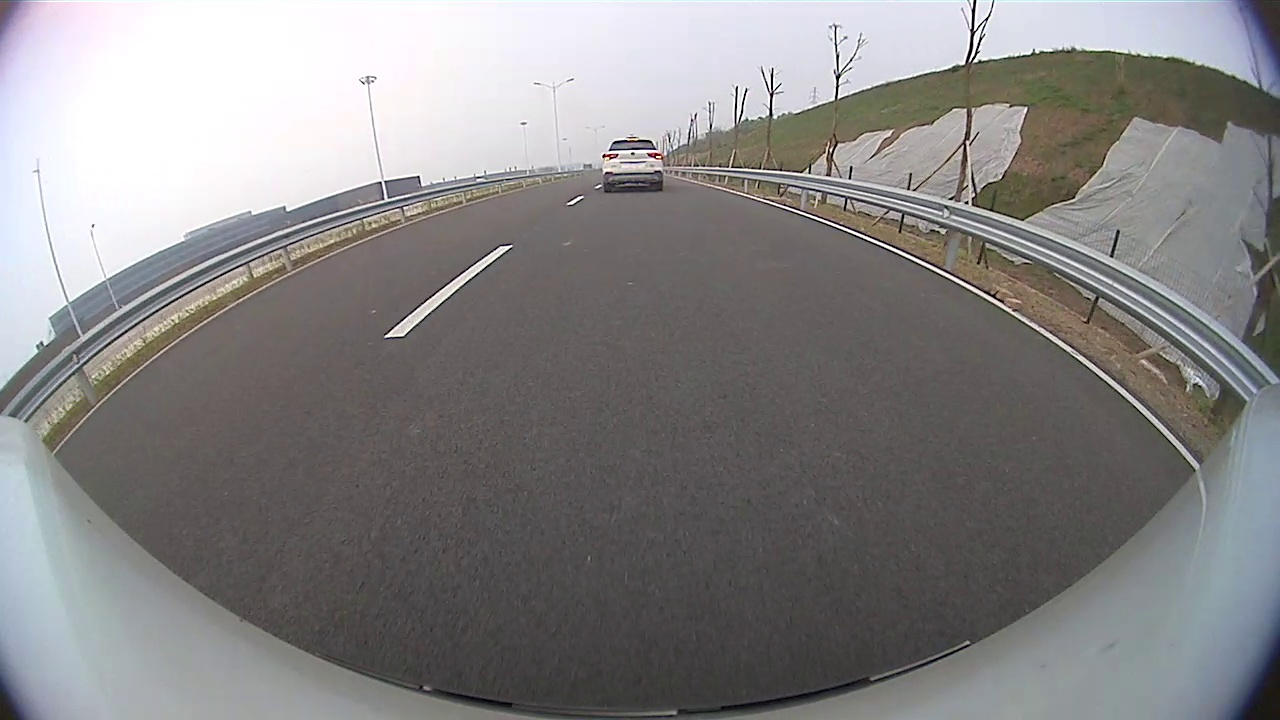car: (602, 136, 667, 195)
